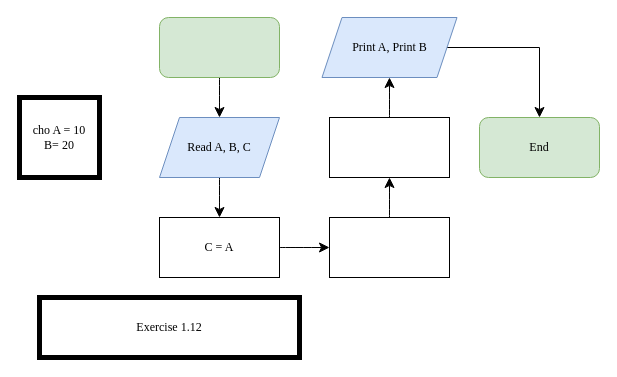
This 617x377 diagram has some shape labels left out. The shapes that lost their labels are listed below. From the top down, each one's centre as x and y in pixels, then its label:
At point 219,47: "Start".
At point 389,147: "B = C".
At point 389,247: "A = B".
